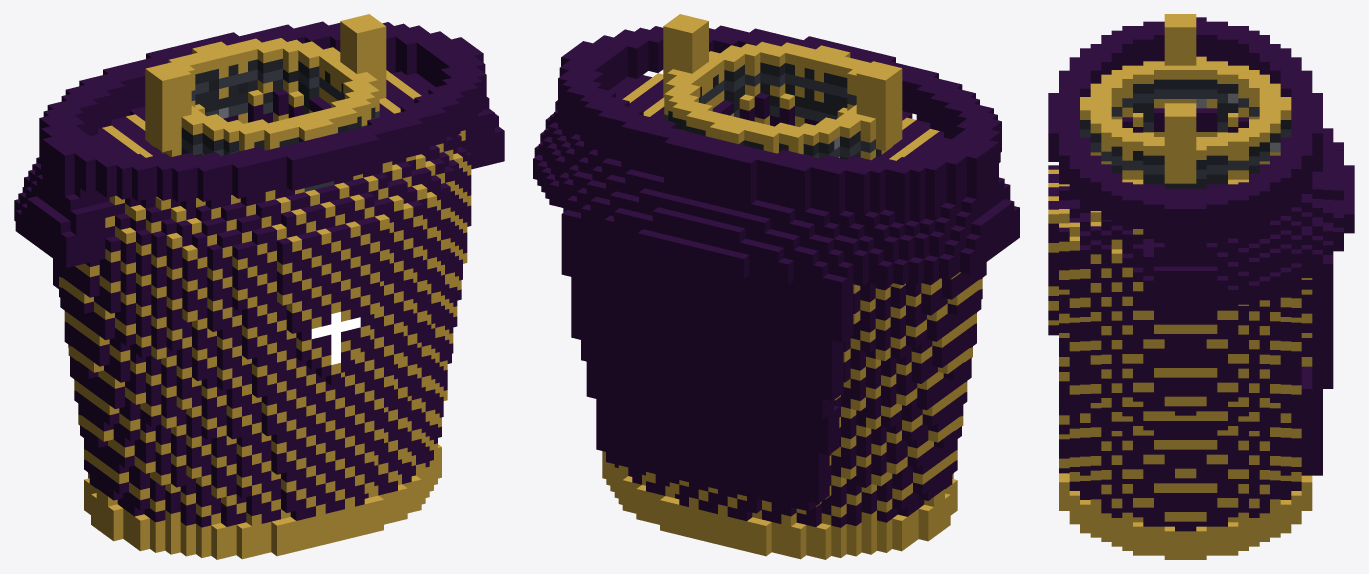
The model's file is scale_legendary_chest.glb.
3 views of the same model, side by side, from view 1: azimuth 30°, elevation 25°; view 2: azimuth 150°, elevation 25°; view 3: azimuth 270°, elevation 25° (orthographic). The views are drawn at different scales.
Visible parts, largest first — view 1: scale_legendary_chest; view 2: scale_legendary_chest; view 3: scale_legendary_chest.
Boxes of the visible parts, x1,y1,x2,y2 form: scale_legendary_chest: (14, 14, 504, 559); scale_legendary_chest: (533, 14, 1019, 559); scale_legendary_chest: (1048, 14, 1354, 559).
Size of the model in its own units: 0.54 by 0.528 by 0.348.
